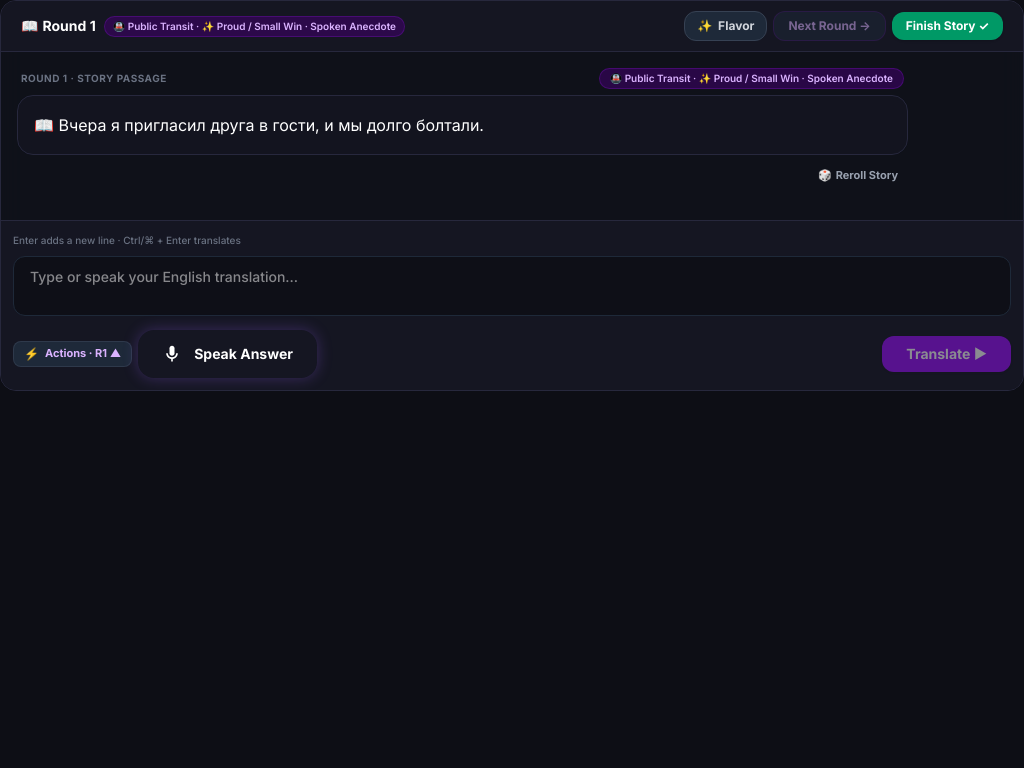
TranslationStorySession Component › submits a translation and renders the improved version
Expected: the text "📖 Вчера я пригласил друга в гости, и мы долго болтали." is shown, [34,115,484,135]
Type "Yesterday I invited a friend to my house and we talked for a long time." into the text box with placeholder "Type or speak your English translation..." at (512, 286), box [13,256,1011,316]
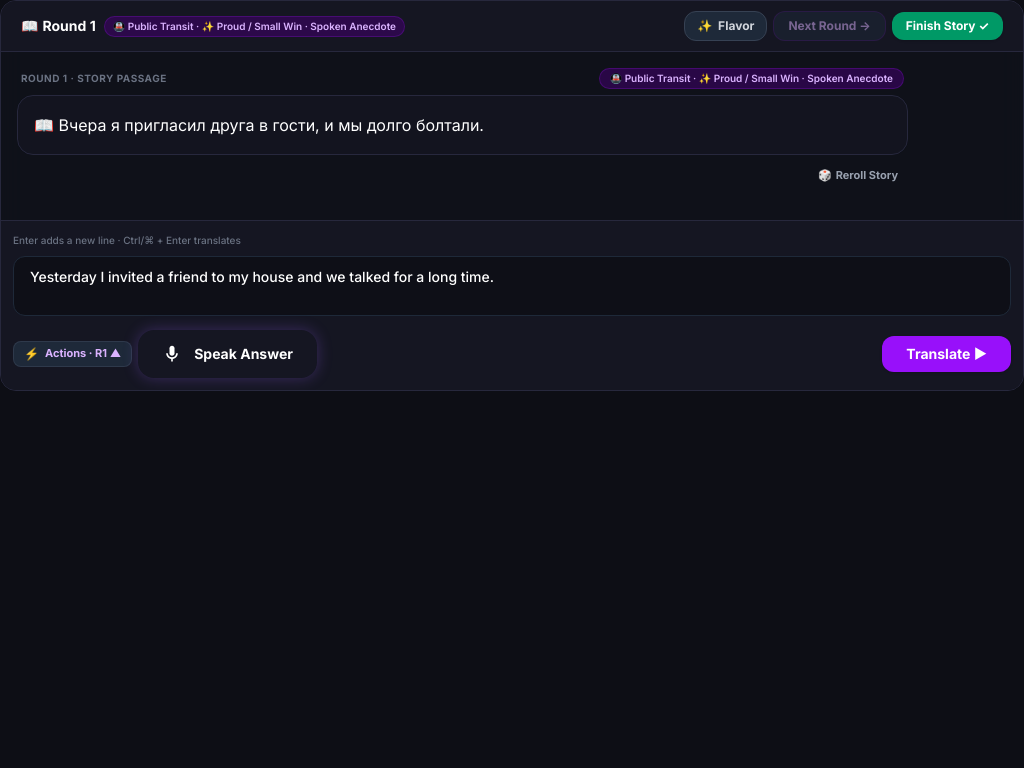
Click the button "Translate ▶" at (947, 354), box [882,336,1011,372]
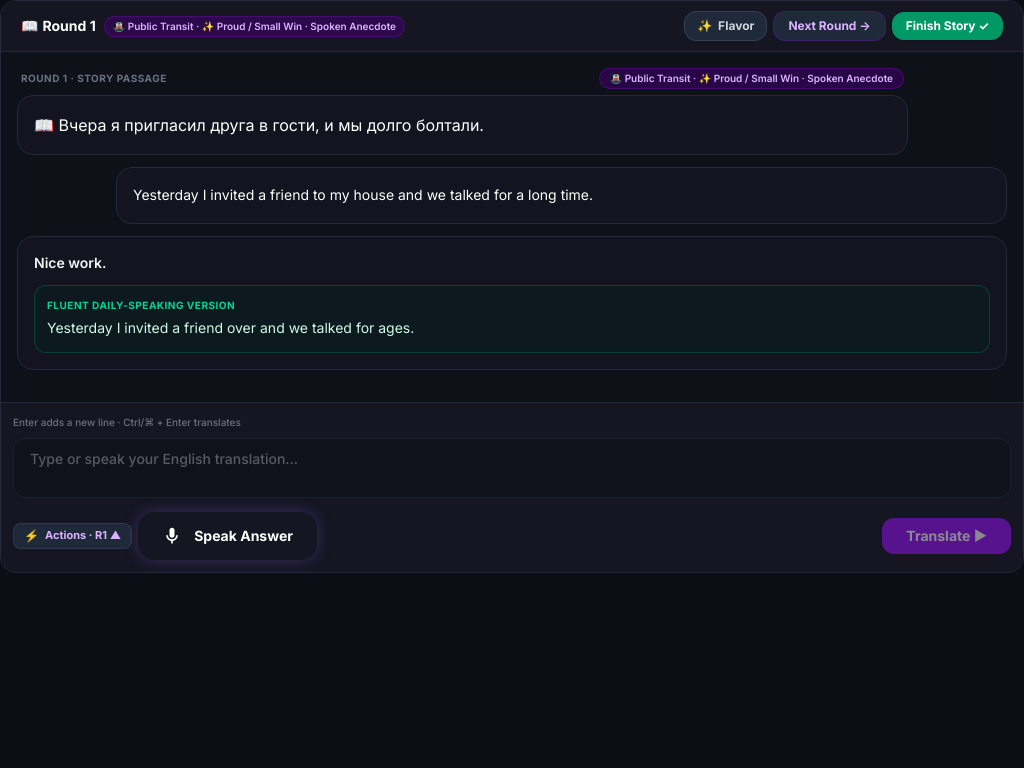
Now the element with test id "story-feedback" is shown, box [17,236,1007,370]
Now the text "Yesterday I invited a friend over and we talked for ages." is shown, box [47,319,414,336]
Now the text "Nice work." is shown, box [34,254,106,271]
